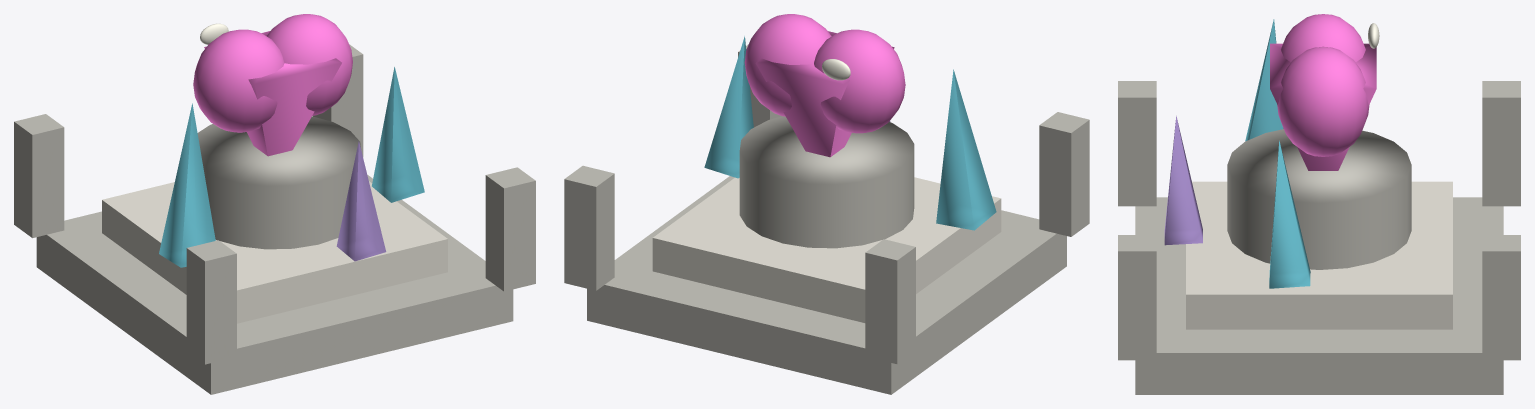
Rendered from crystal_core.glb.
The picture shows the model from 3 angles, left to right: view 1: azimuth 30°, elevation 25°; view 2: azimuth 150°, elevation 25°; view 3: azimuth 270°, elevation 25°; orthographic projection. The views are drawn at different scales.
Visible parts, largest first — view 1: plaza, step, plinth, heart-lobe-l, pillar-1, pillar-4, pillar-3, heart-point, blue-crystal-l, heart-lobe-r, blue-crystal-r, lavender-crystal (+1 smaller); view 2: plaza, step, plinth, heart-lobe-l, pillar-2, pillar-3, pillar-1, blue-crystal-l, heart-point, heart-lobe-r, blue-crystal-r, heart-brush (+1 smaller); view 3: plaza, step, plinth, heart-lobe-r, pillar-1, pillar-2, pillar-3, pillar-4, blue-crystal-r, lavender-crystal, heart-lobe-l, heart-point (+1 smaller).
Boxes of the visible parts, box(x1,y1,x2,y2) form: plaza: box(36, 175, 513, 394); step: box(102, 181, 447, 323); plinth: box(197, 116, 361, 249); heart-lobe-l: box(193, 29, 284, 132); pillar-1: box(14, 114, 64, 238); pillar-4: box(485, 167, 535, 291); pillar-3: box(186, 240, 236, 364); heart-point: box(204, 31, 341, 156); blue-crystal-l: box(159, 103, 215, 267); heart-lobe-r: box(267, 14, 352, 115); blue-crystal-r: box(372, 67, 424, 202); lavender-crystal: box(336, 141, 386, 261); plaza: box(587, 176, 1066, 394); step: box(652, 177, 1001, 322); plinth: box(739, 116, 914, 248); heart-lobe-l: box(814, 29, 905, 133); pillar-2: box(564, 165, 614, 290); pillar-3: box(1039, 112, 1089, 236); pillar-1: box(865, 239, 915, 364); blue-crystal-l: box(936, 69, 996, 230); heart-point: box(755, 31, 894, 157); heart-lobe-r: box(744, 14, 831, 116); blue-crystal-r: box(704, 36, 753, 178); heart-brush: box(822, 59, 850, 80); plaza: box(1135, 197, 1503, 394); step: box(1186, 181, 1452, 329); plinth: box(1227, 129, 1411, 269); heart-lobe-r: box(1277, 46, 1369, 156); pillar-1: box(1482, 81, 1520, 206); pillar-2: box(1482, 235, 1520, 360); pillar-3: box(1118, 81, 1156, 206); pillar-4: box(1118, 235, 1156, 360); blue-crystal-r: box(1269, 140, 1310, 288); lavender-crystal: box(1164, 116, 1202, 245); heart-lobe-l: box(1281, 14, 1365, 62); heart-point: box(1270, 43, 1376, 170).
Size of the model in its own units: 2.08 by 1.61 by 2.08.
